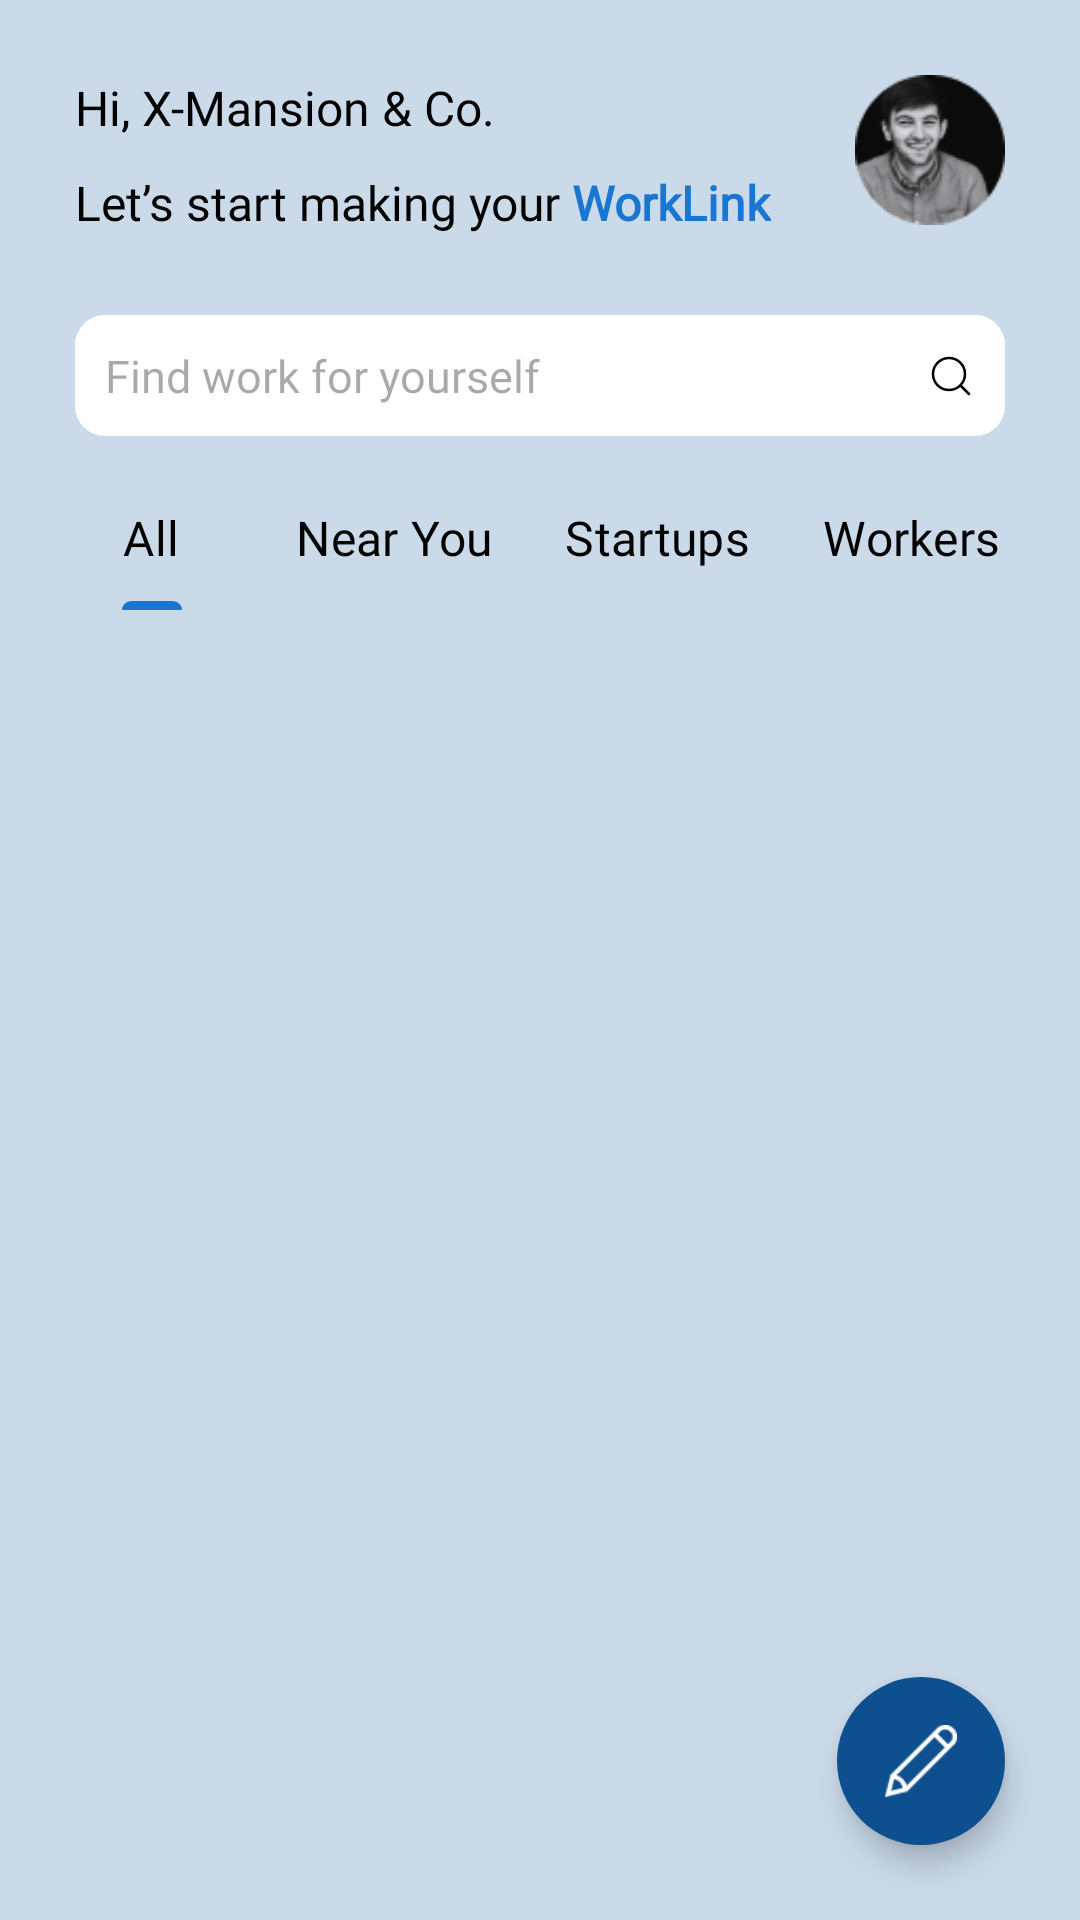

Screen size 1080x1920. Icon name, then its center in pixels as (x,y):
post: (921,1761)
search: (951,376)
